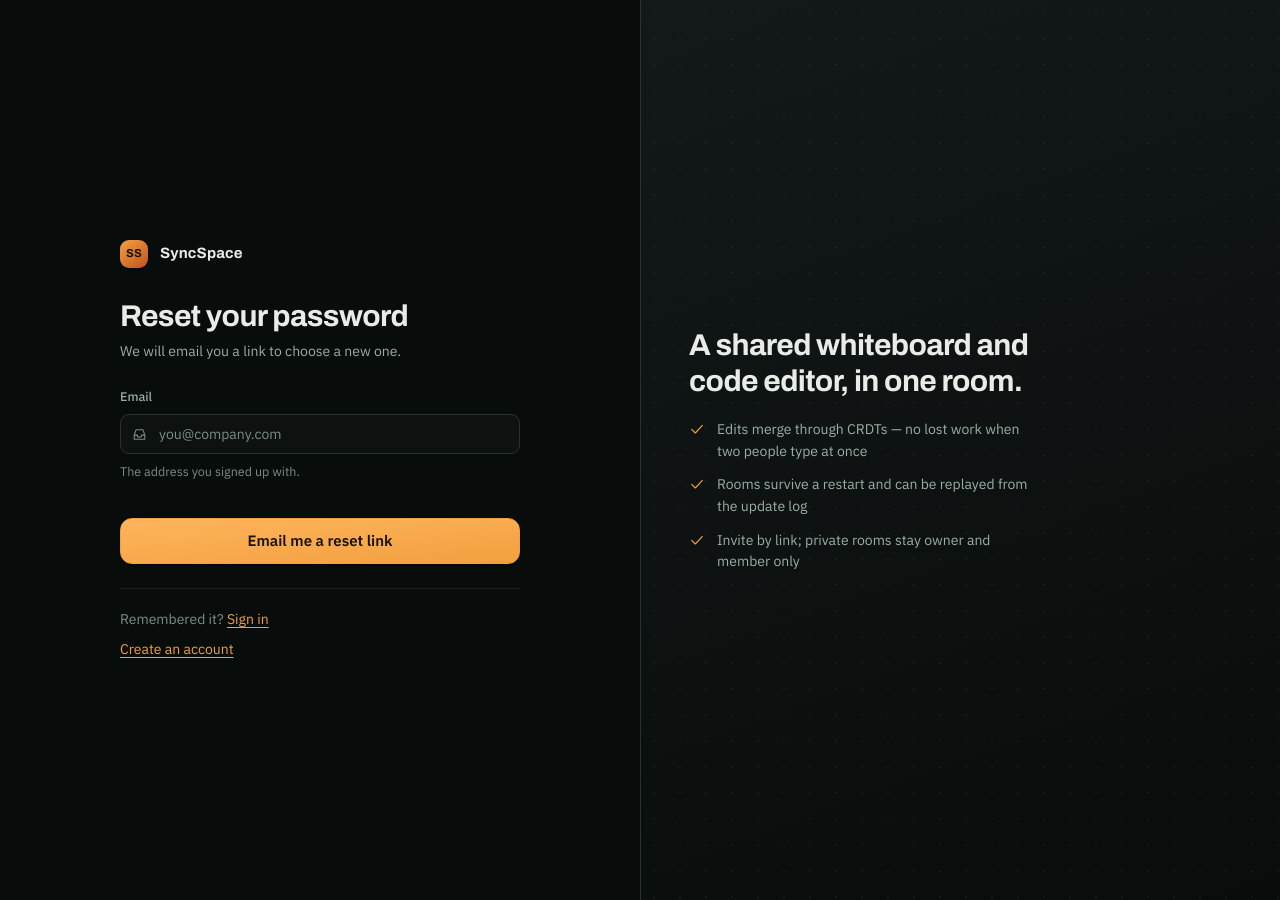
Test: ForgotPassword › shows a real failure, such as being rate limited
Type "ada@syncspace.test" into the field labelled "Email" at [320, 434], box [120,414,520,454]
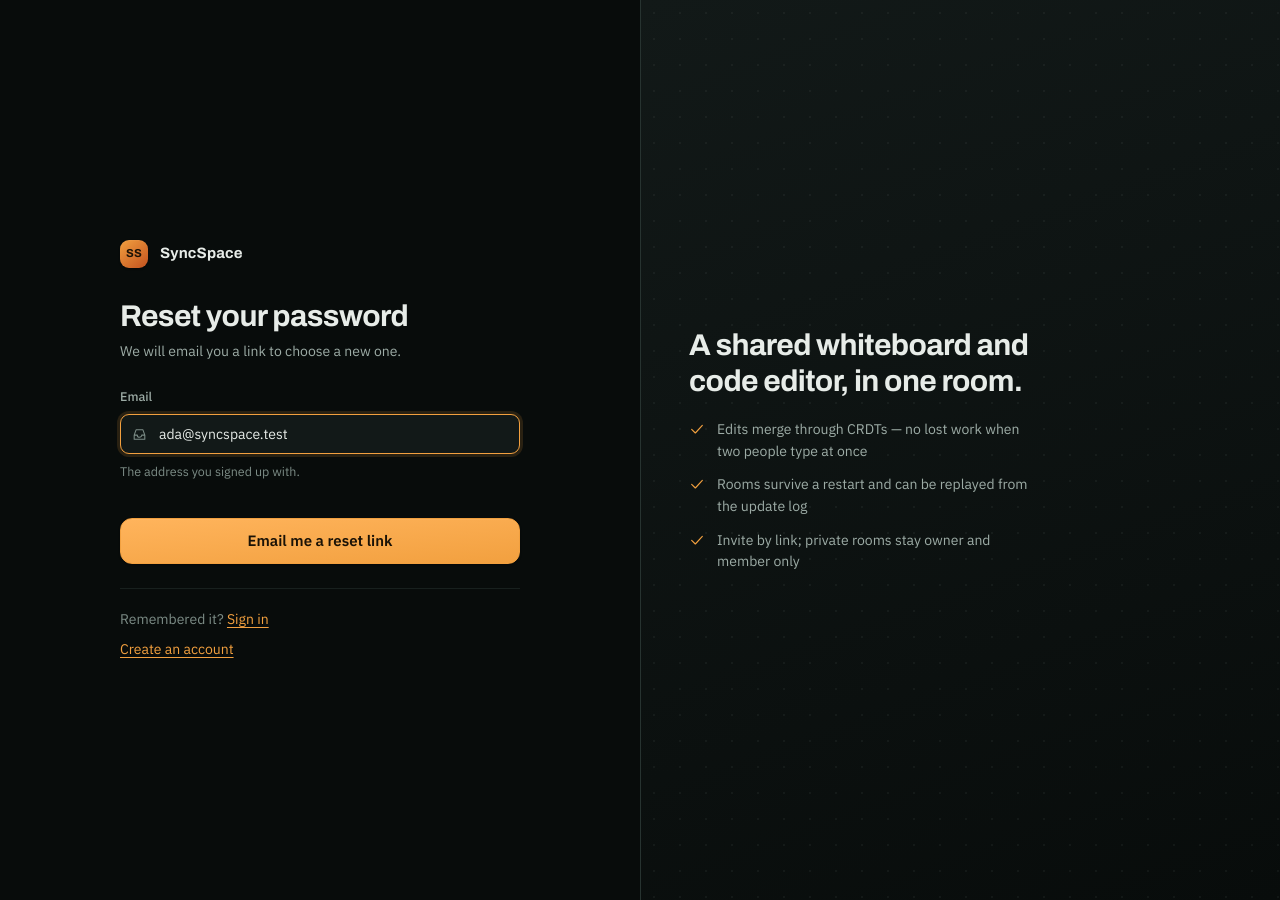
Click the button "Email me a reset link" at [320, 541], box [120,518,520,564]
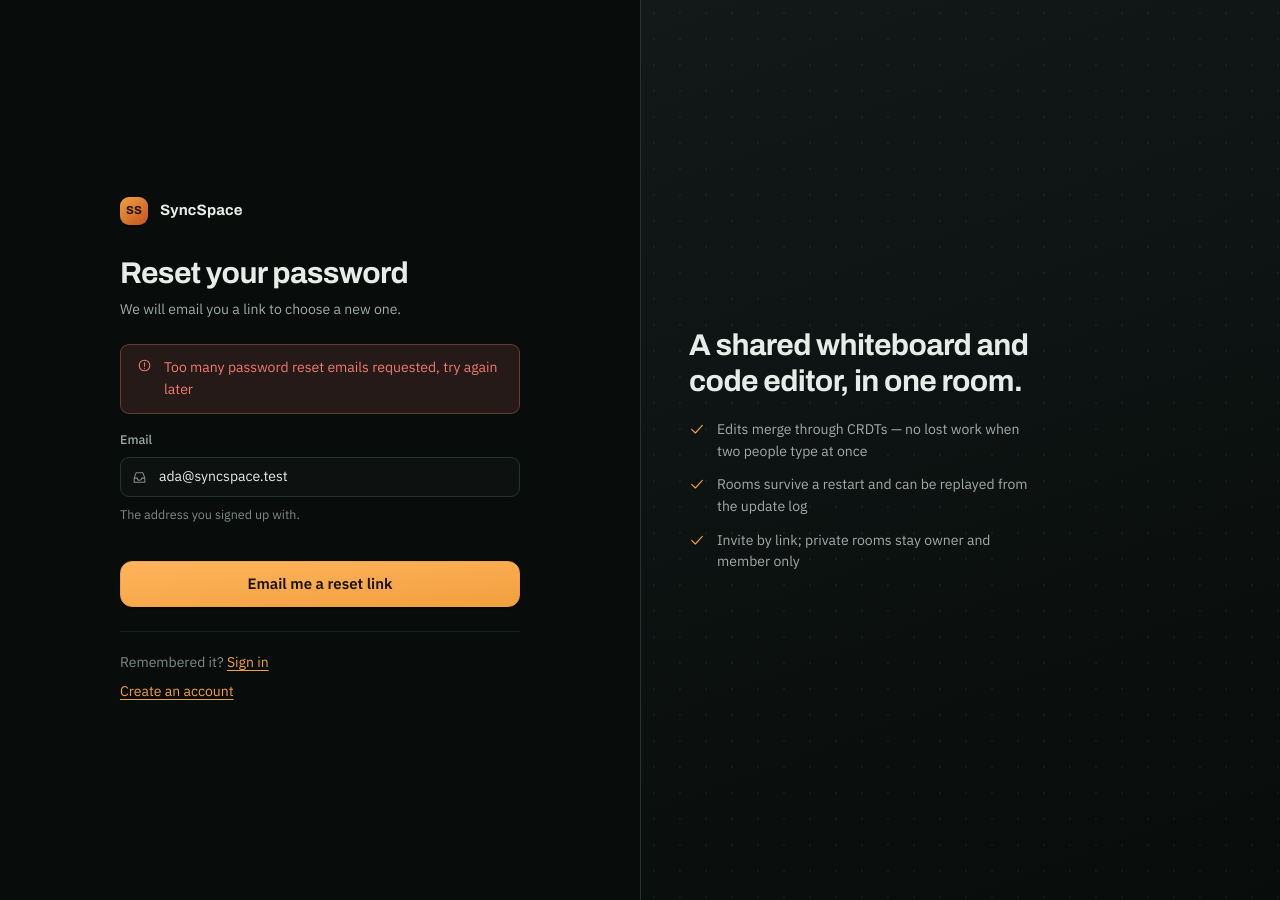
Result: the message shows "Too many password reset emails" at [164,358,498,398]
